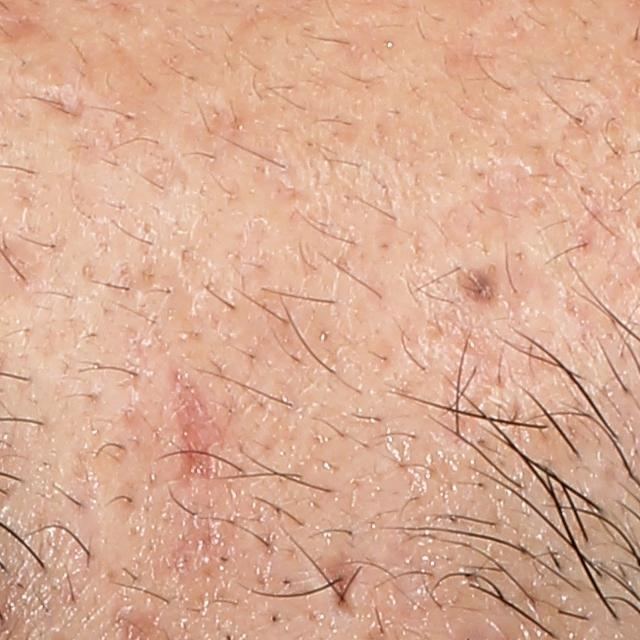atrophic_scar: (166, 366, 225, 484), (29, 77, 88, 133), (321, 551, 362, 617)
nevus: (454, 261, 501, 309)
